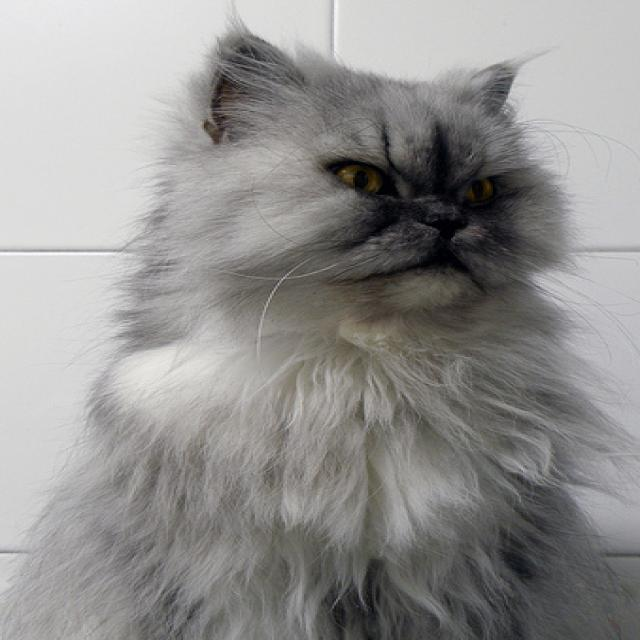Persian: (0, 18, 640, 640)
